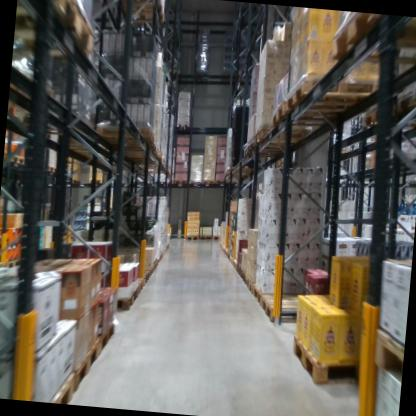pallet: (14, 0, 118, 65), (286, 324, 364, 397), (326, 11, 416, 72), (285, 75, 377, 117), (260, 295, 333, 333), (358, 95, 416, 138), (271, 97, 343, 130), (372, 326, 404, 378), (73, 337, 99, 400), (255, 122, 310, 150), (98, 121, 157, 144), (393, 78, 416, 126), (46, 371, 77, 404), (96, 321, 117, 366), (240, 145, 288, 163), (246, 140, 287, 156), (113, 286, 137, 312), (3, 254, 26, 274), (228, 163, 261, 175), (251, 284, 265, 311), (130, 276, 144, 300), (8, 149, 28, 165), (245, 275, 256, 296), (175, 122, 192, 135), (87, 174, 104, 187), (137, 268, 150, 284), (46, 163, 60, 176), (215, 177, 234, 186), (199, 232, 214, 243), (174, 177, 189, 188), (239, 269, 248, 286), (145, 265, 155, 279), (202, 176, 215, 186), (276, 155, 286, 168), (235, 265, 244, 279), (183, 235, 200, 242), (189, 179, 202, 186), (232, 260, 238, 272), (228, 255, 234, 265), (213, 235, 222, 241)
